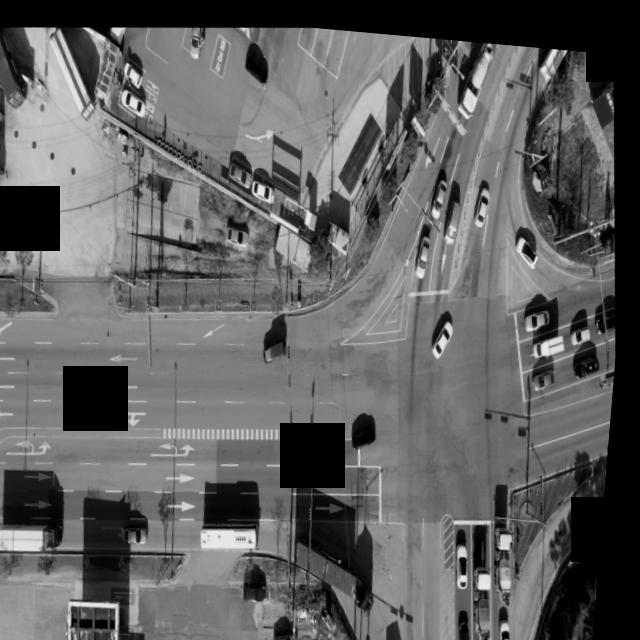car: (241, 44, 271, 86), (434, 309, 460, 350), (442, 191, 465, 236), (516, 222, 544, 258), (430, 170, 453, 213), (417, 226, 437, 270), (462, 533, 480, 580), (473, 177, 493, 219), (119, 83, 145, 115), (358, 417, 385, 443), (597, 294, 621, 323), (251, 174, 277, 200), (527, 295, 554, 320), (577, 344, 605, 368), (534, 357, 561, 381), (124, 56, 145, 86), (230, 156, 255, 181), (187, 22, 205, 55), (465, 606, 482, 640), (229, 220, 255, 242), (132, 520, 157, 541), (251, 577, 275, 598), (507, 610, 522, 640), (574, 314, 595, 335), (283, 626, 305, 640)
large_bus: (209, 512, 271, 548)
large_truck: (299, 529, 389, 620)
medium_truck: (41, 25, 97, 120), (451, 32, 500, 116), (0, 515, 72, 554), (498, 518, 525, 585), (482, 577, 503, 631)
small_truck: (535, 320, 570, 350), (265, 331, 293, 359)
